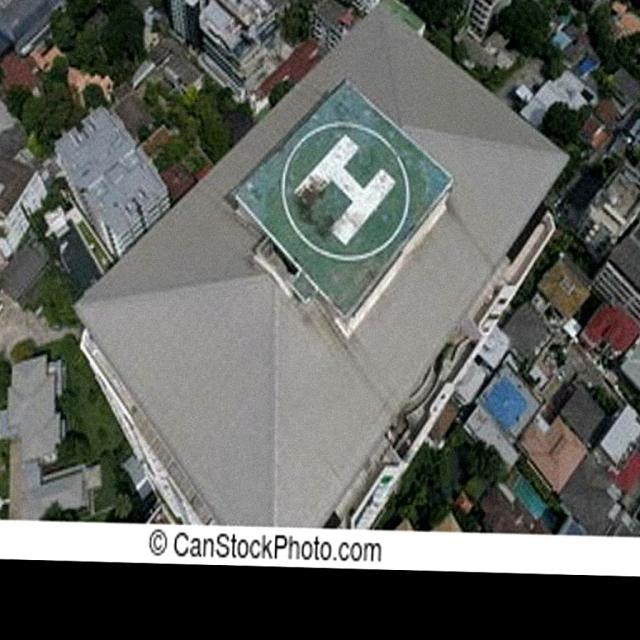helipad: (274, 116, 417, 263)
